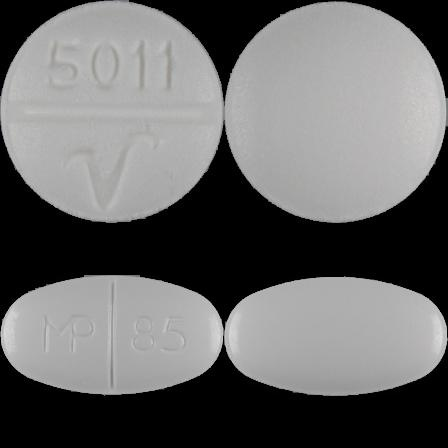63739-200: (0, 0, 224, 224)
